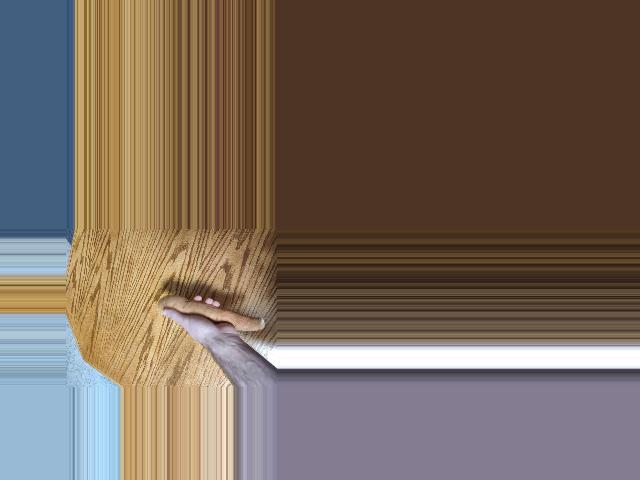sweet_potato: (159, 294, 265, 333)
